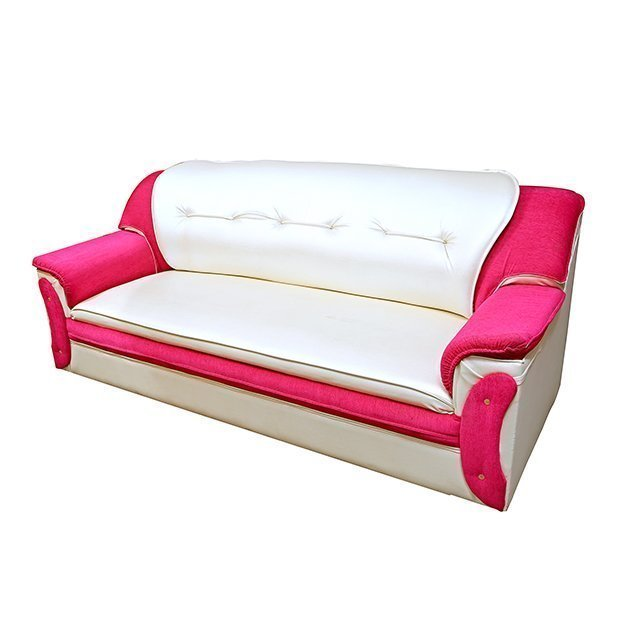3seatersofa: (35, 161, 582, 509)
backrest: (120, 161, 583, 315)
base: (64, 318, 480, 502)
leftarmrest: (442, 284, 568, 509)
rightarmrest: (34, 230, 158, 368)
seat: (71, 271, 465, 412)
